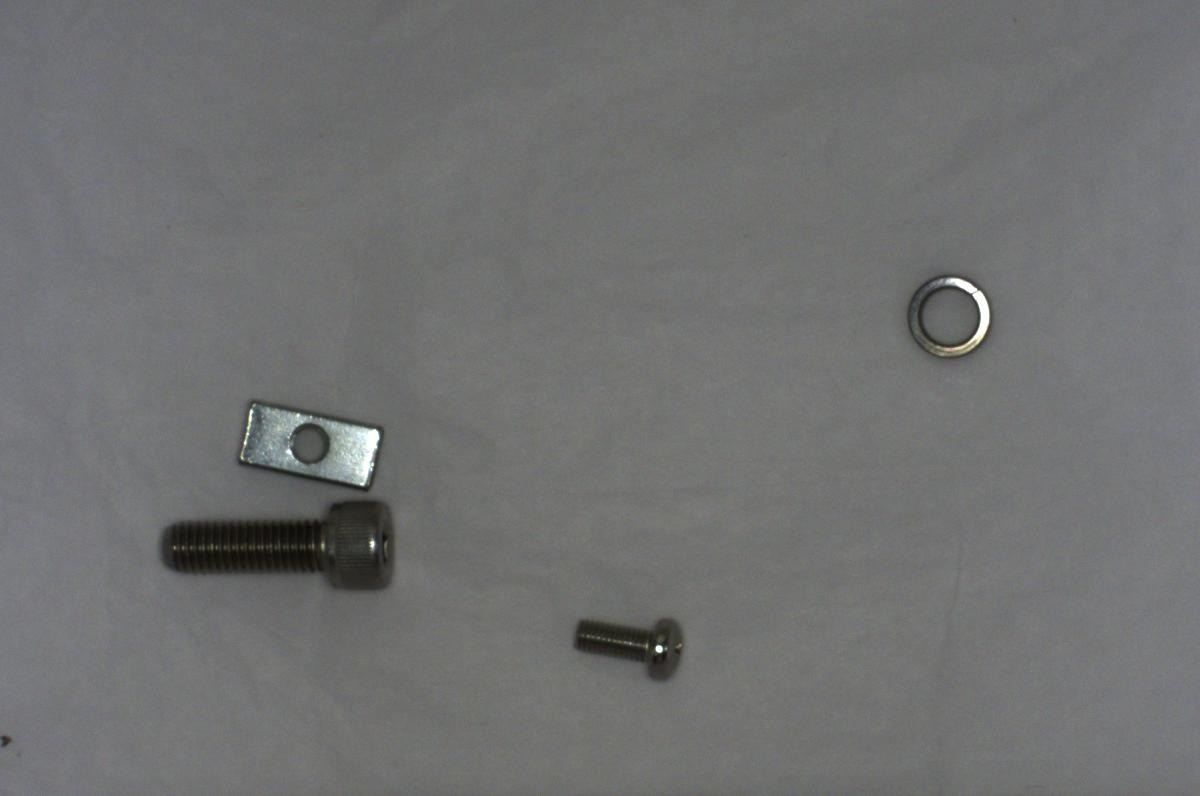Hexagon screw: (159, 492, 400, 601)
Rectangular nut: (226, 400, 382, 489)
Round head screw: (561, 601, 694, 688)
Spring washer: (897, 262, 1001, 369)
